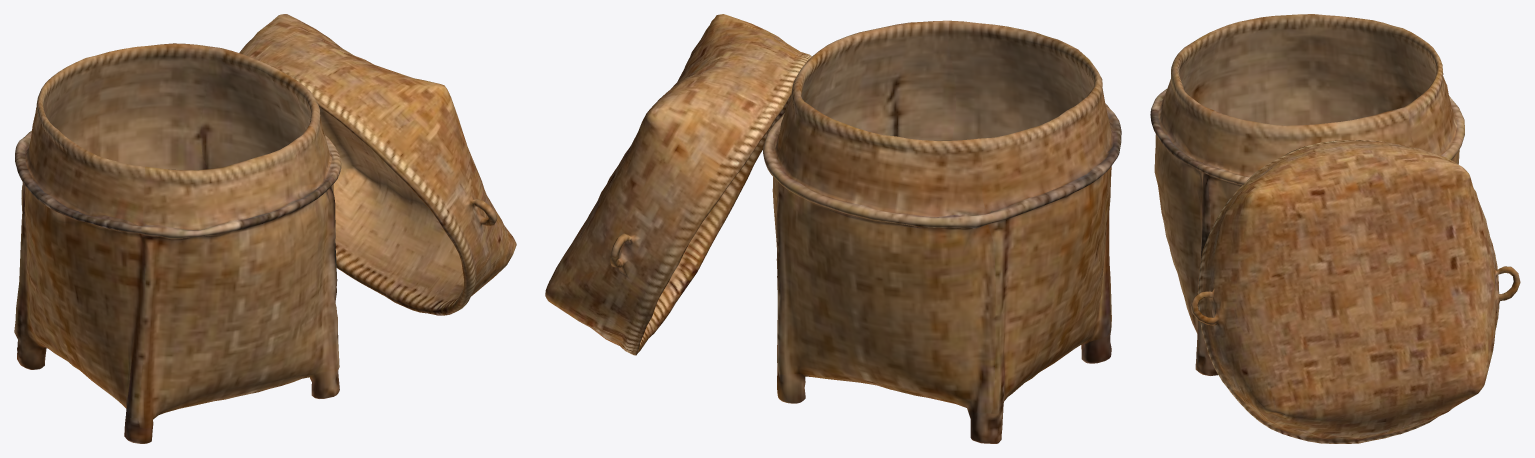
Rendered from wicker_basket_02.glb.
3 views of the same model, side by side, from view 1: azimuth 30°, elevation 25°; view 2: azimuth 150°, elevation 25°; view 3: azimuth 270°, elevation 25° (orthographic). The views are drawn at different scales.
Visible parts, largest first — view 1: wicker_basket_02_base, wicker_basket_02_lid; view 2: wicker_basket_02_base, wicker_basket_02_lid; view 3: wicker_basket_02_lid, wicker_basket_02_base.
Part boxes in pixels (bbox=[...]): wicker_basket_02_base: bbox=[14, 43, 341, 443]; wicker_basket_02_lid: bbox=[239, 14, 516, 315]; wicker_basket_02_base: bbox=[763, 20, 1121, 443]; wicker_basket_02_lid: bbox=[545, 14, 811, 355]; wicker_basket_02_lid: bbox=[1190, 140, 1520, 443]; wicker_basket_02_base: bbox=[1150, 14, 1464, 375].
Size of the model in its own units: 0.3469 by 0.2005 by 0.2544.
Materials: 1 (1 with a texture image).
